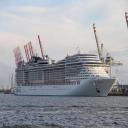cruises: (15, 46, 120, 99)
